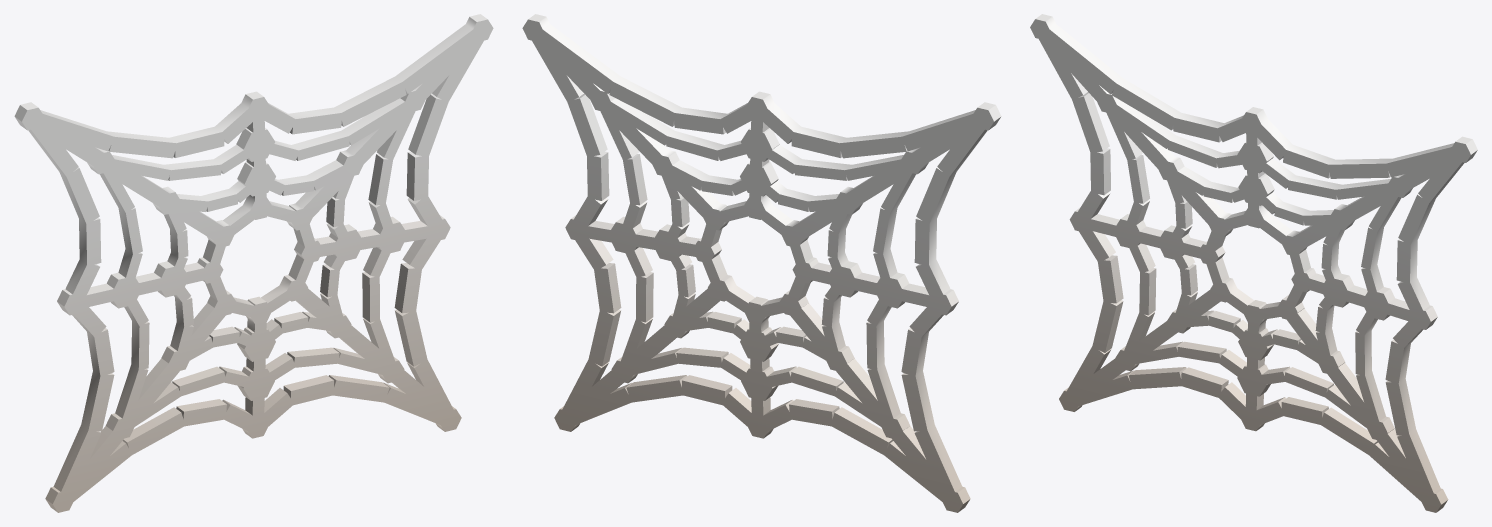
File: web_wall_small.glb
3 views of the same model, side by side, from view 1: azimuth 30°, elevation 25°; view 2: azimuth 150°, elevation 25°; view 3: azimuth 330°, elevation 25° (orthographic). The views are drawn at different scales.
Visible parts, largest first — view 1: web_wall_small; view 2: web_wall_small; view 3: web_wall_small.
Part boxes in pixels (x1=…): web_wall_small: x1=14, y1=14, x2=493, y2=512; web_wall_small: x1=522, y1=14, x2=1001, y2=512; web_wall_small: x1=1030, y1=14, x2=1477, y2=512.
Bounding box in the file's own units: 1.28 × 1.1 × 0.035.
1 material, 1 textured.
